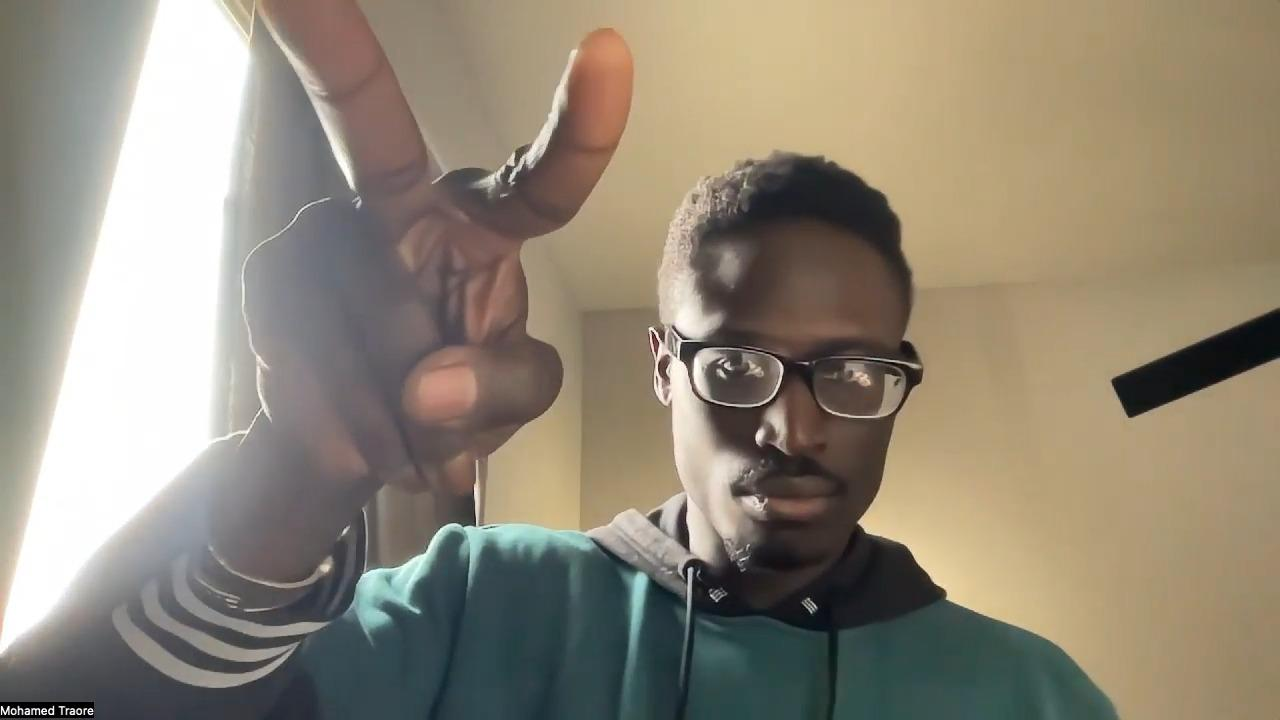Scissors: (238, 0, 637, 503)
